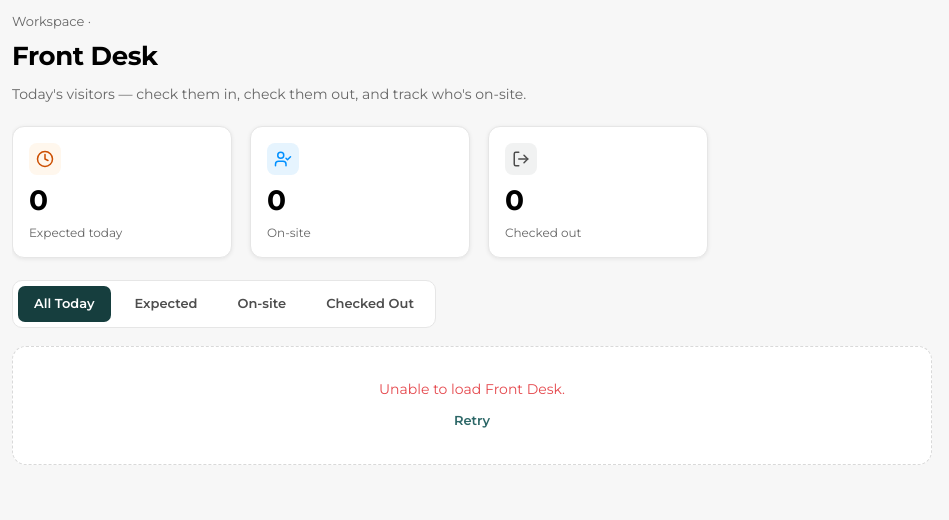
Test: shows an error state with a working Retry
This screenshot has width=949, height=520.
Expected: the text "Unable to load Front Desk." is shown, [379,380,565,398]
Click the button "Retry": (472, 421) [454,411,490,430]
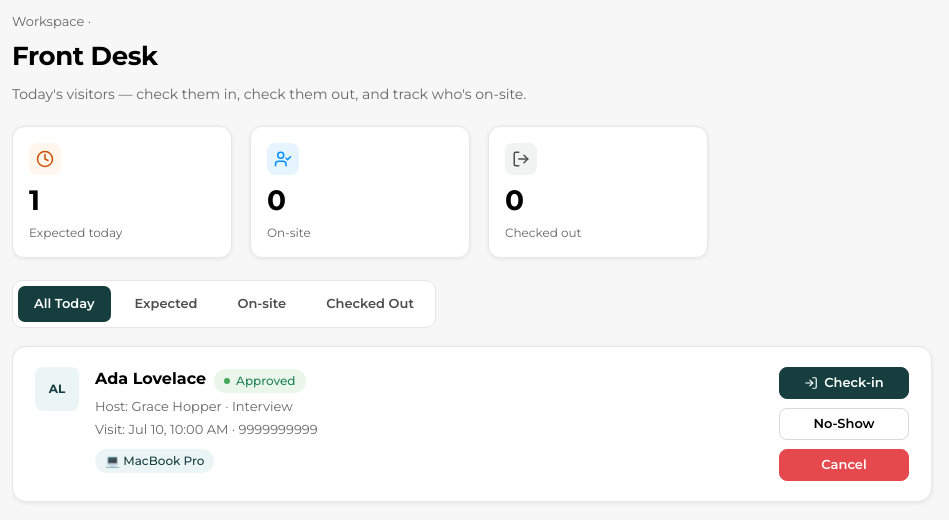
Expected: the text "Ada Lovelace" is shown, [95,367,206,391]
